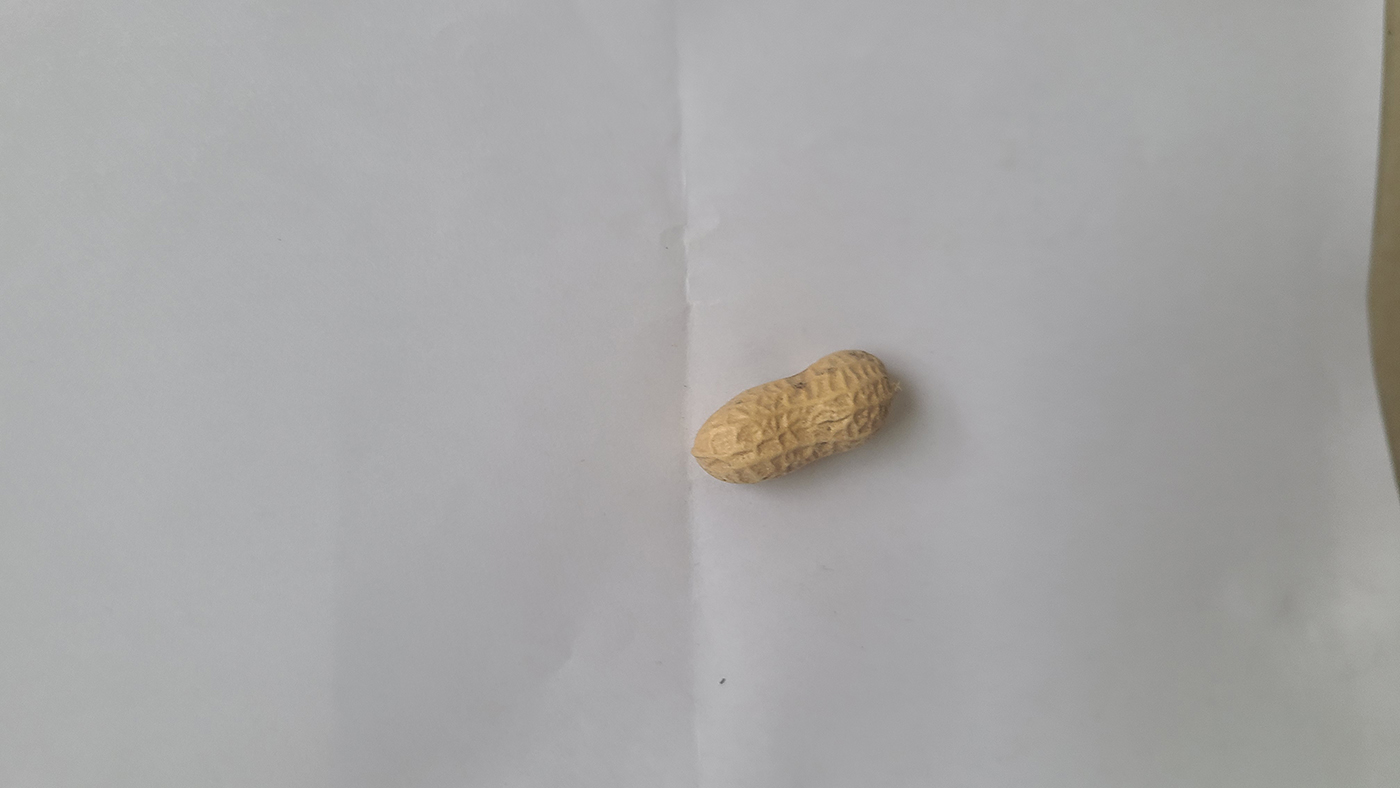h: (688, 347, 899, 488)
